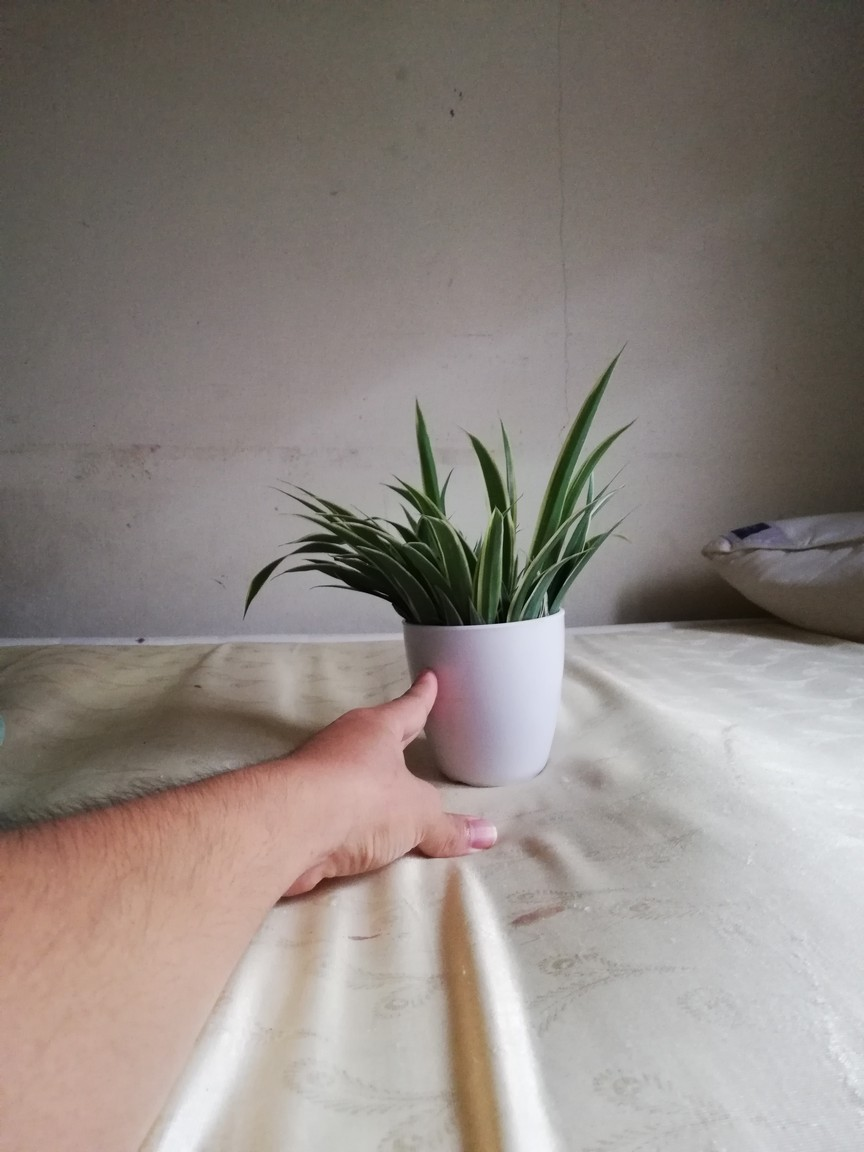daun: (573, 332, 632, 421), (457, 419, 497, 496), (482, 505, 506, 618), (414, 386, 441, 486), (596, 414, 646, 464), (241, 562, 270, 629), (497, 410, 517, 487), (266, 483, 317, 512), (277, 477, 326, 504), (611, 500, 643, 540), (596, 481, 630, 515), (276, 509, 328, 528), (277, 532, 329, 550), (272, 562, 313, 584), (605, 457, 632, 486), (392, 472, 421, 498), (310, 583, 365, 596), (441, 464, 457, 504), (376, 481, 414, 497), (399, 500, 419, 530), (302, 556, 329, 566)
